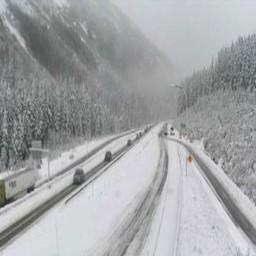Snow: (0, 121, 167, 255), (0, 129, 143, 231), (141, 140, 255, 255), (168, 123, 255, 229), (5, 157, 49, 198), (87, 127, 139, 153), (49, 143, 86, 177)
